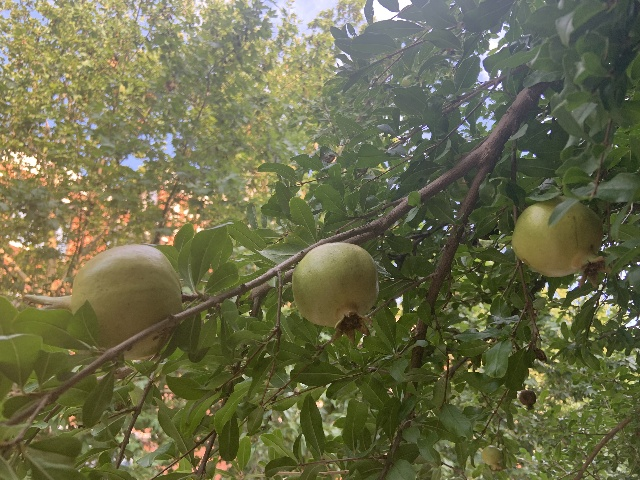mid-growth: (23, 244, 182, 359), (291, 241, 378, 346), (512, 198, 610, 290), (481, 445, 503, 471)
